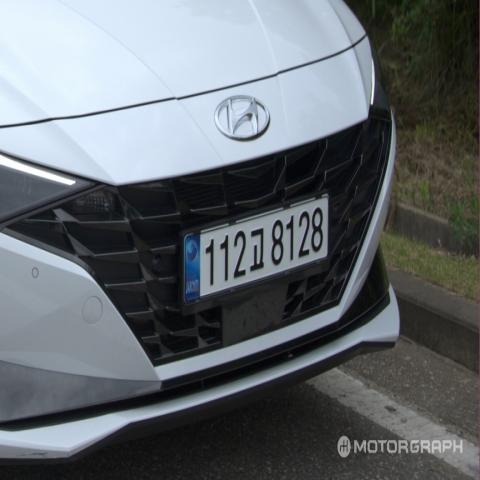LP: (179, 184, 335, 316)
